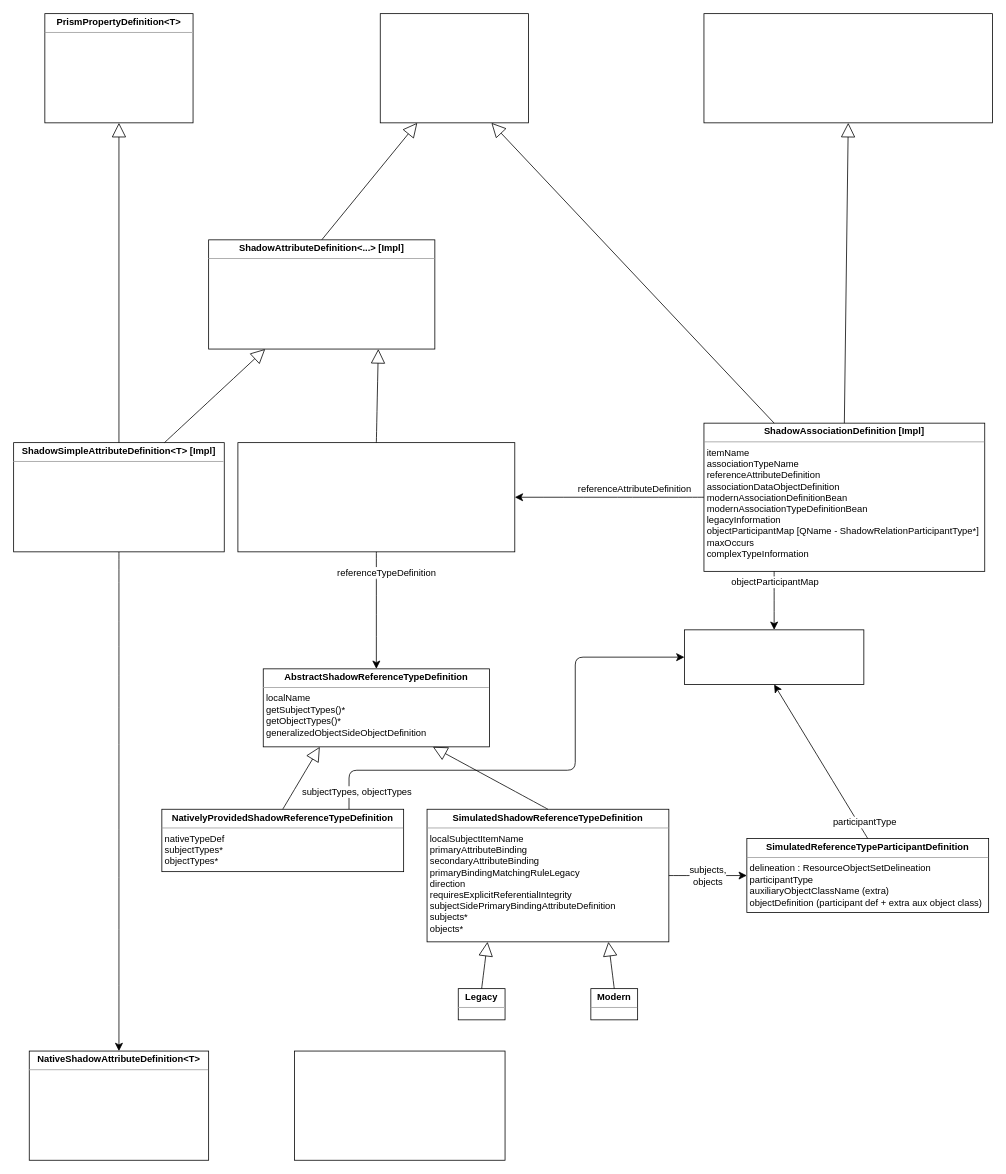
Image size: 1006x1174. Some labels were removed from this diagram. The shapes that lost their labels are listed below. From the top down, each one's box as (x1, y1, x2, y2) in pixels, then its label:
(379, 13, 528, 123): ShadowItemDefinition<...>
(703, 13, 993, 123): PrismContainerDefinition<ShadowAssociationValueType>
(237, 442, 515, 552): ShadowReferenceAttributeDefinition [Impl] referenceTypeDefinition
(684, 629, 864, 684): ShadowRelationParticipantType typeIdentification [0..1] objectDefinition
(294, 1050, 505, 1160): NativeShadowReferenceAttributeDefinition
